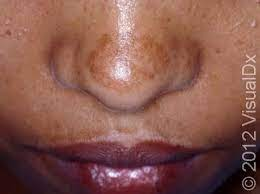Melasma: (83, 24, 207, 97), (41, 116, 195, 145)
